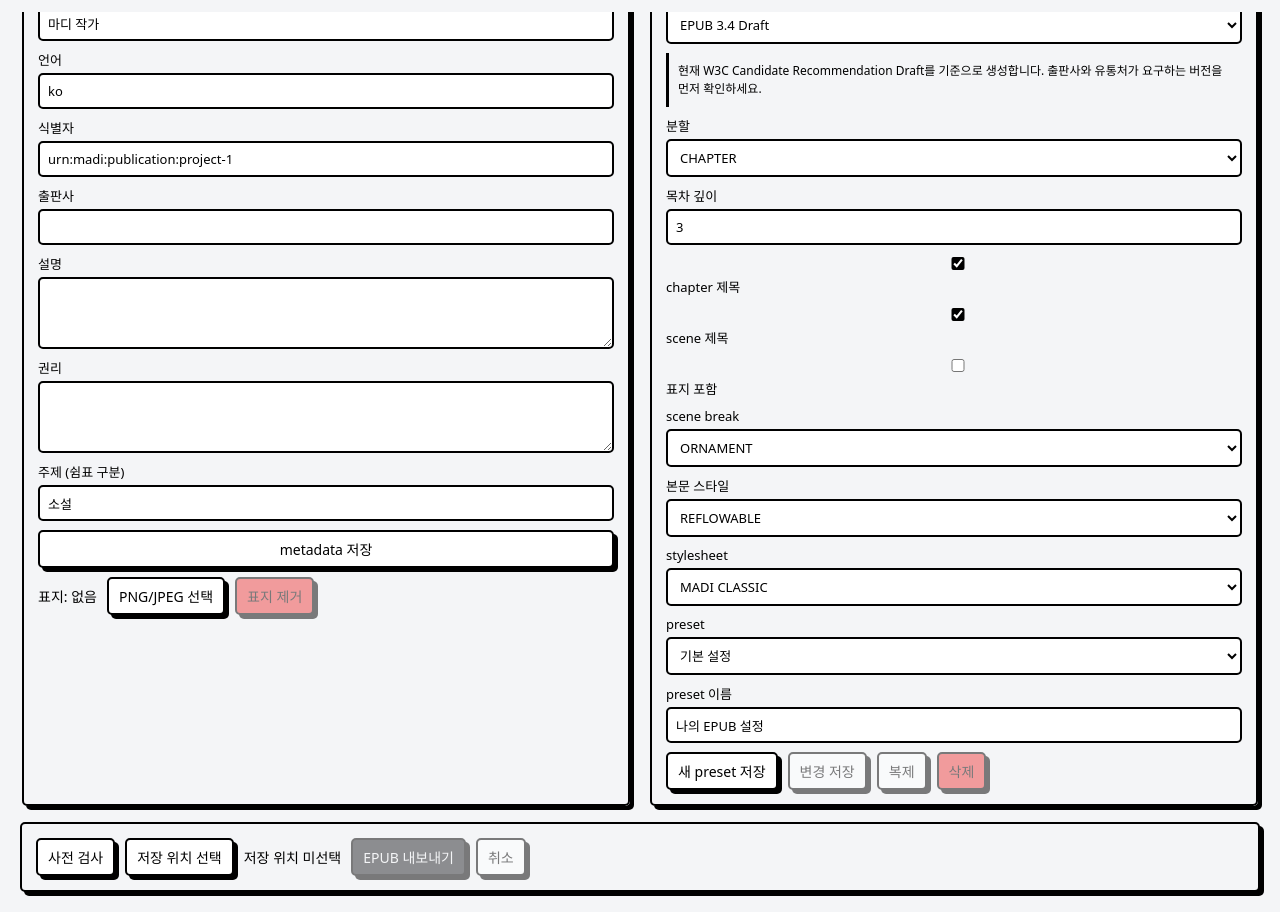
Phase 1G EPUB export workspace › creates, updates, duplicates, and deletes project-local EPUB presets
(page scrolled)
Step 1. Replace the text in the field labelled "preset 이름" with "새 설정" → (954, 725), box [666, 707, 1242, 743]
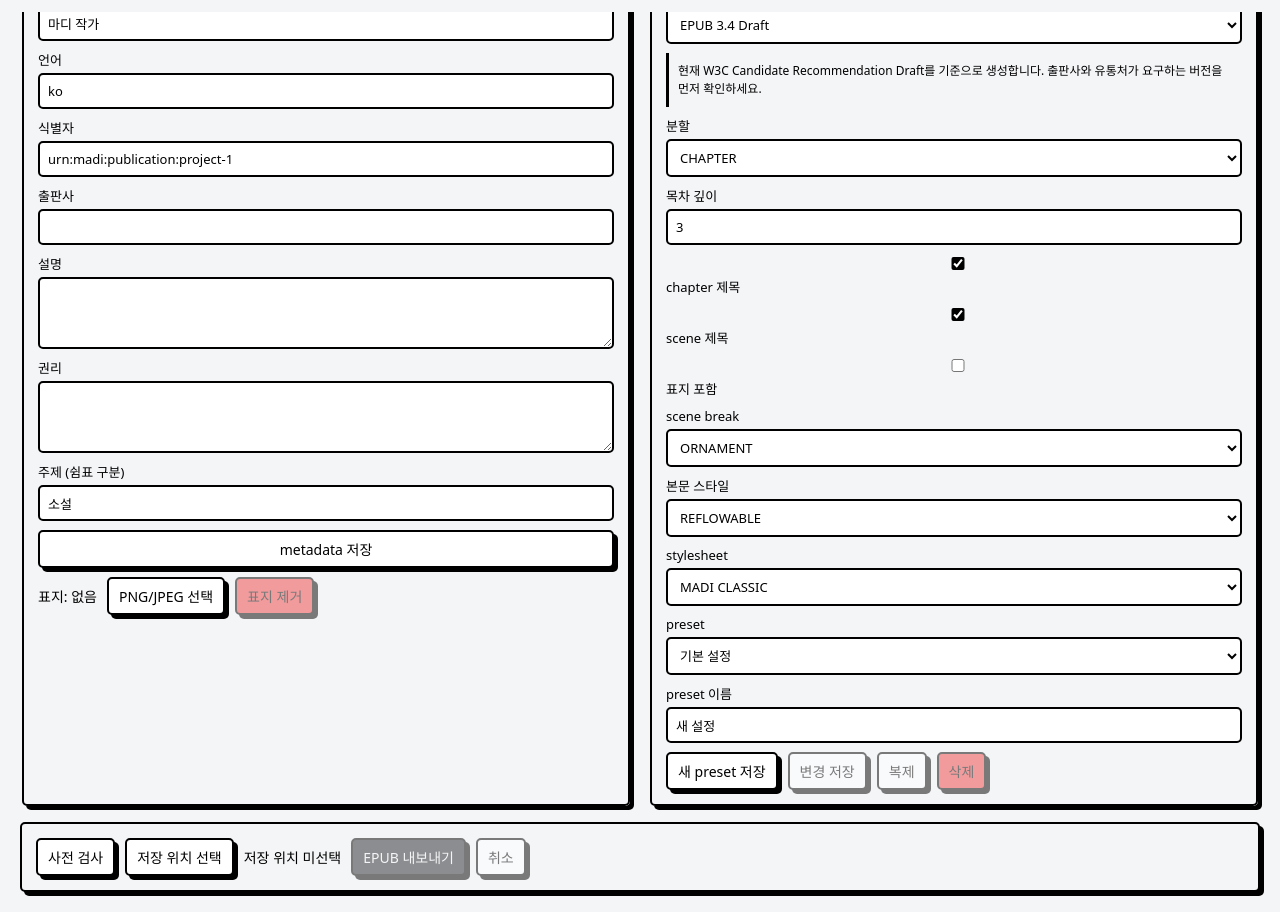
Step 2. Click the button "새 preset 저장" → (722, 771), box [666, 752, 778, 790]
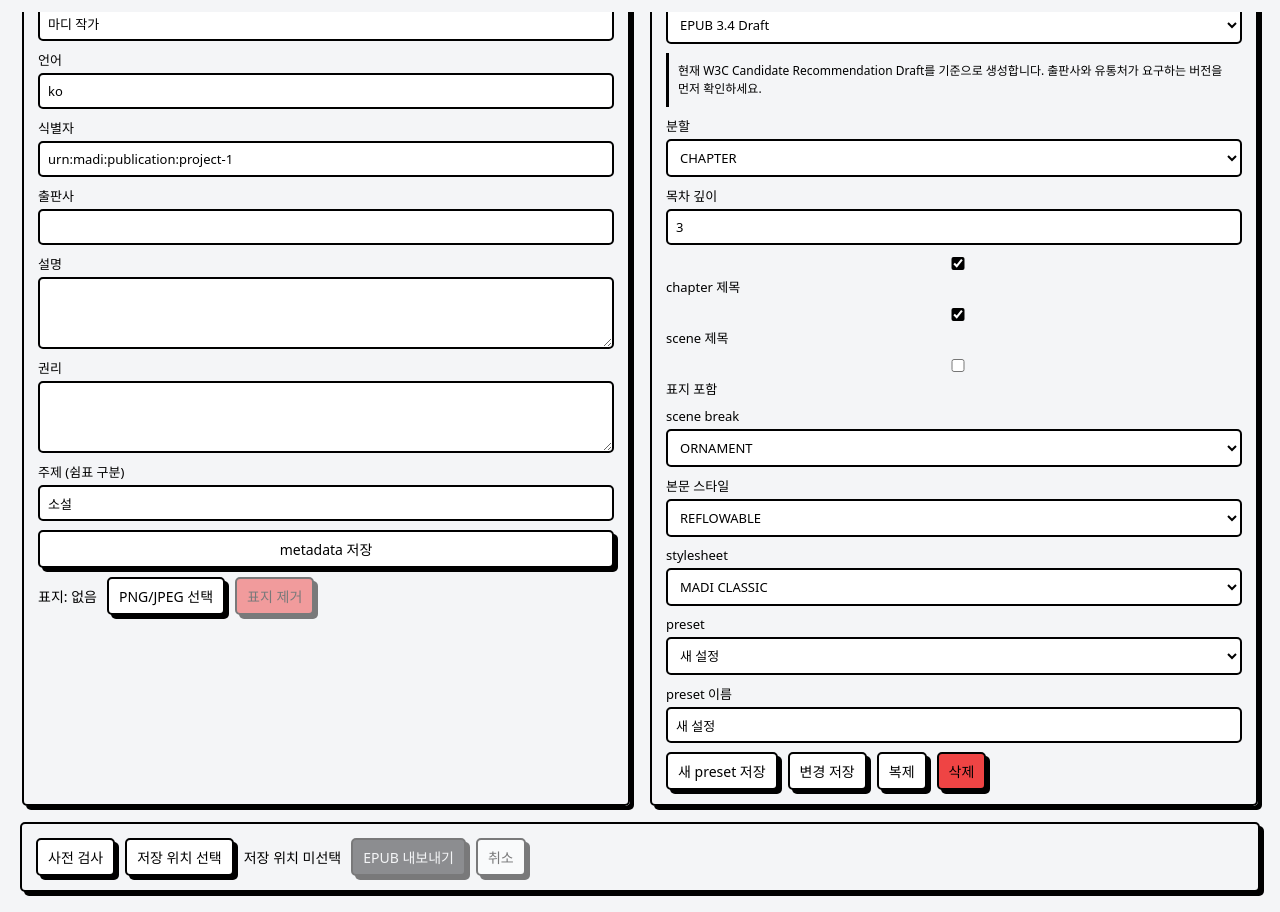
Expected: the dropdown labelled "preset" shows "새 설정", [666, 637, 1242, 675]
Step 3. Replace the text in the field labelled "preset 이름" with "변경 설정" → (954, 725), box [666, 707, 1242, 743]
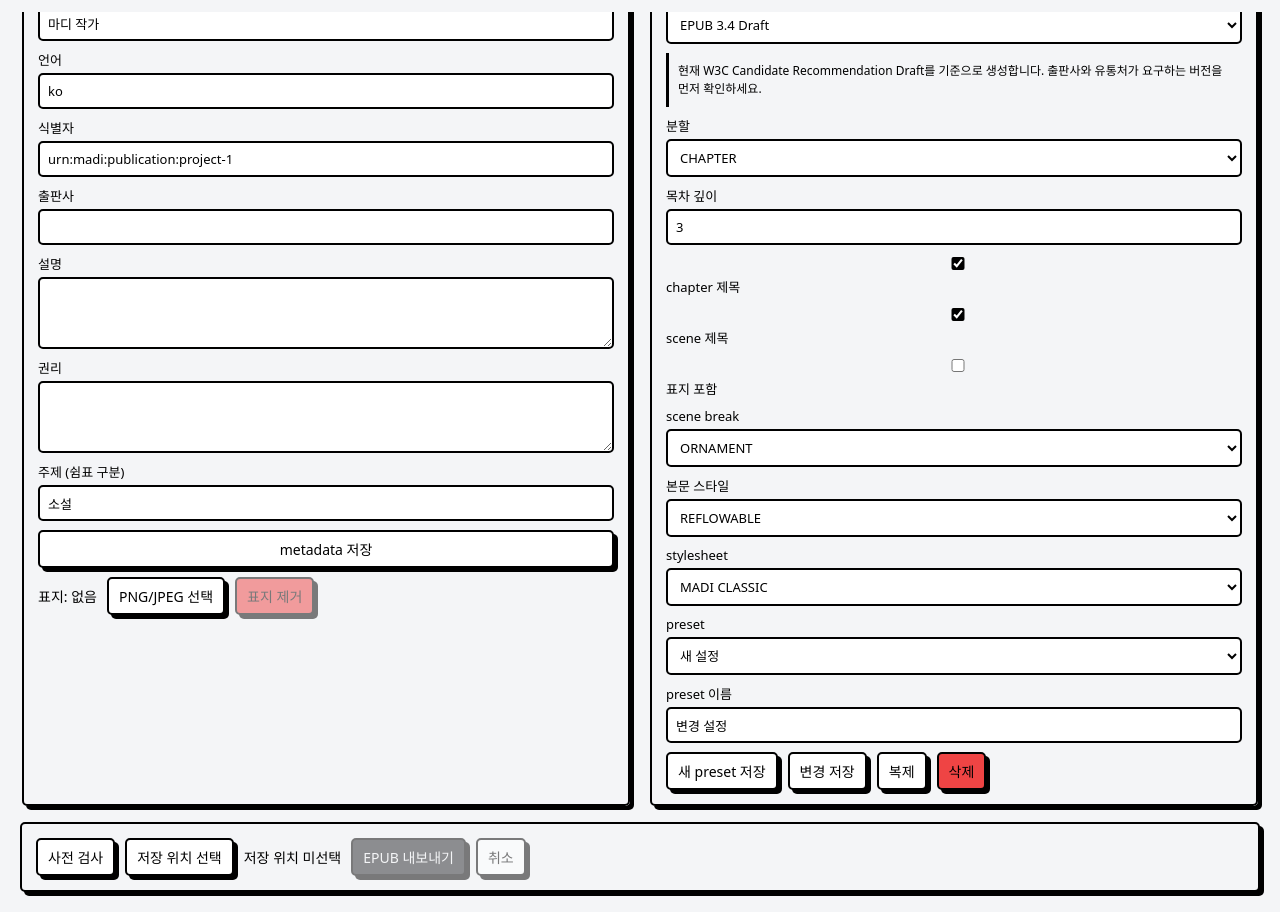
Step 4. Click the button "변경 저장" → (827, 771), box [788, 752, 867, 790]
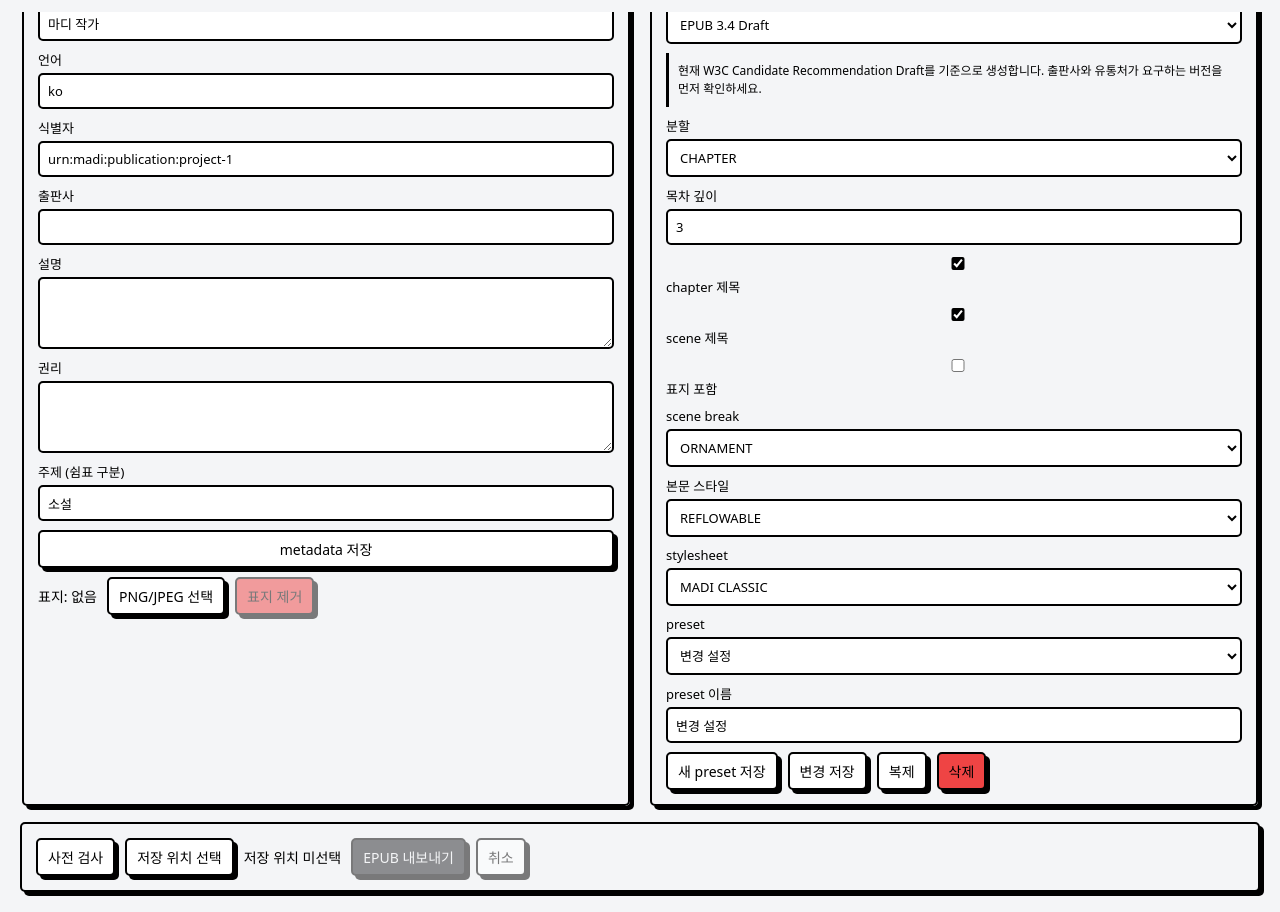
Step 5. Click the button "복제" → (902, 771), box [877, 752, 927, 790]
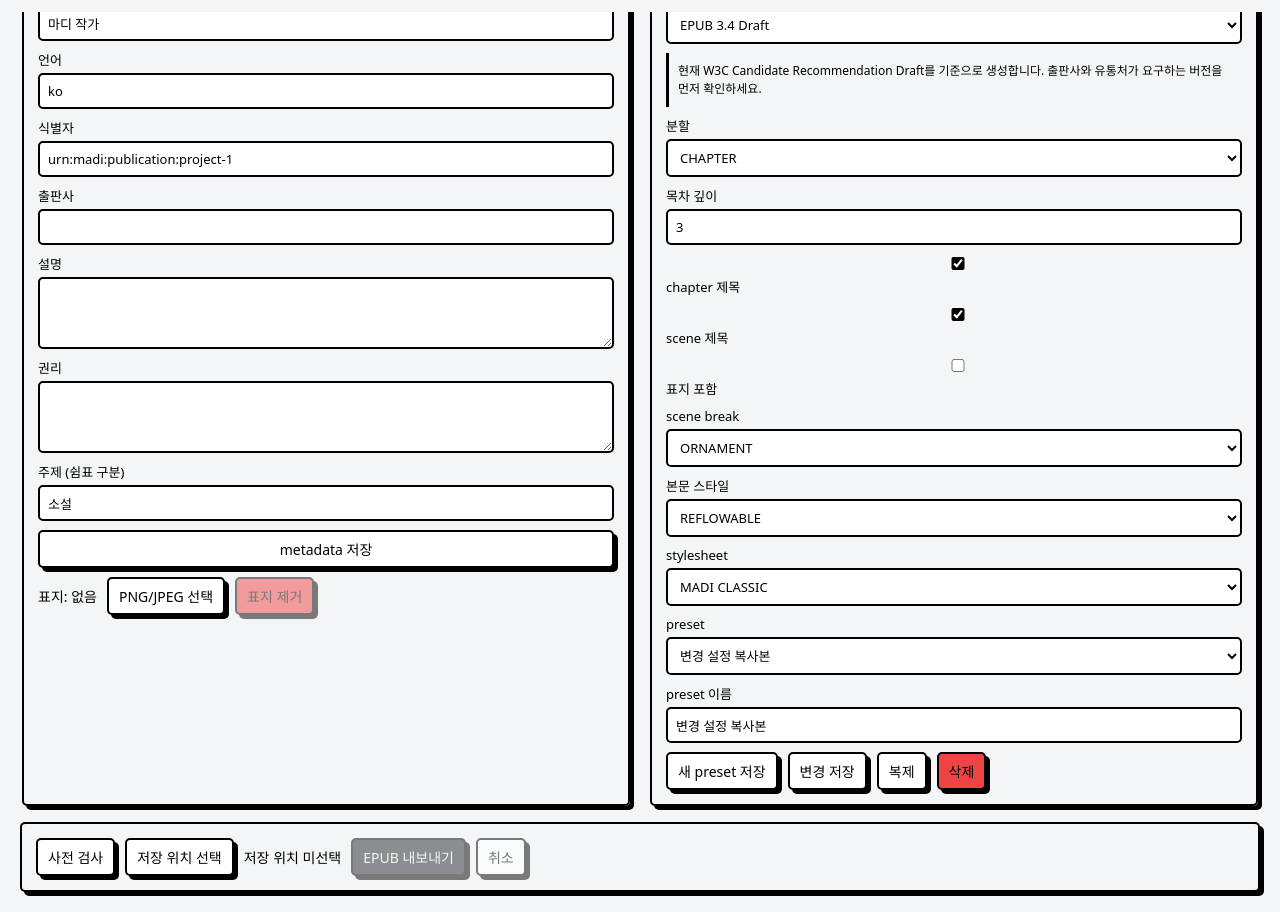
Expected: the dropdown labelled "preset" shows "변경 설정 복사본", [666, 637, 1242, 675]
Step 6. Click the button "삭제" → (961, 771), box [936, 752, 986, 790]
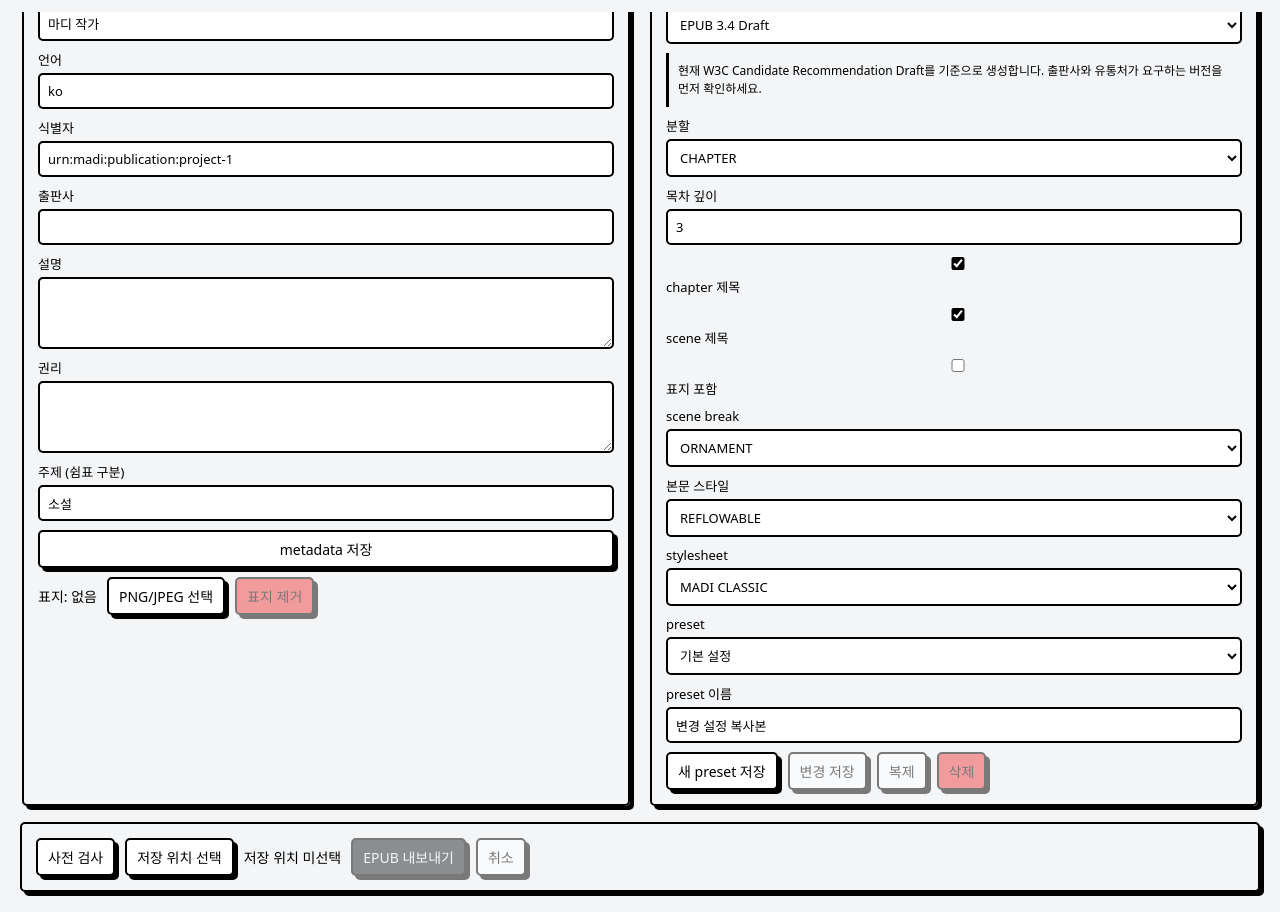
Expected: the dropdown labelled "preset" shows "기본 설정", [666, 637, 1242, 675]
